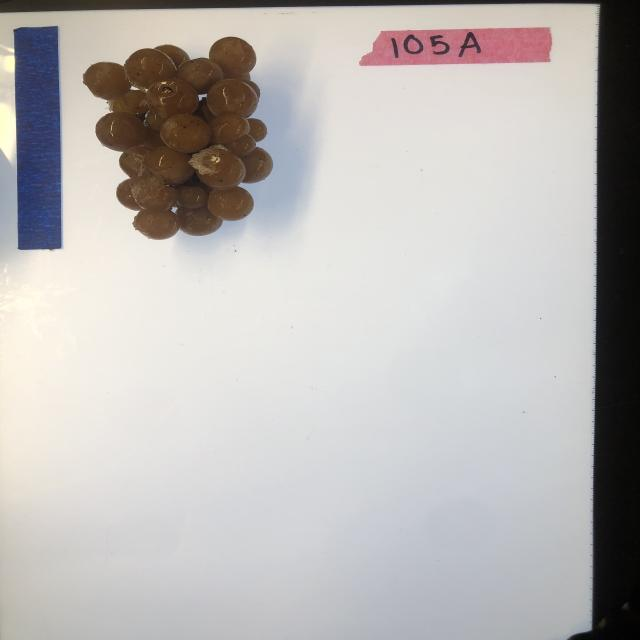grape_cluster: (82, 35, 276, 241)
index: (359, 27, 554, 66)
measure_label: (14, 24, 64, 251)
